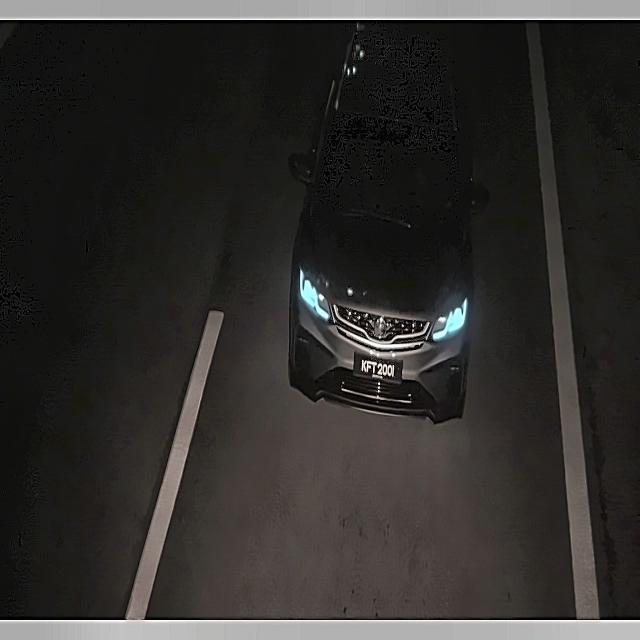car: (350, 338, 412, 391)
